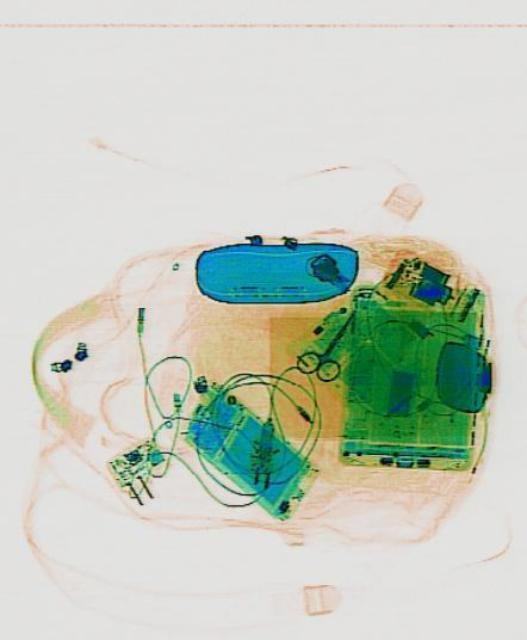Scissors: (291, 296, 369, 392)
